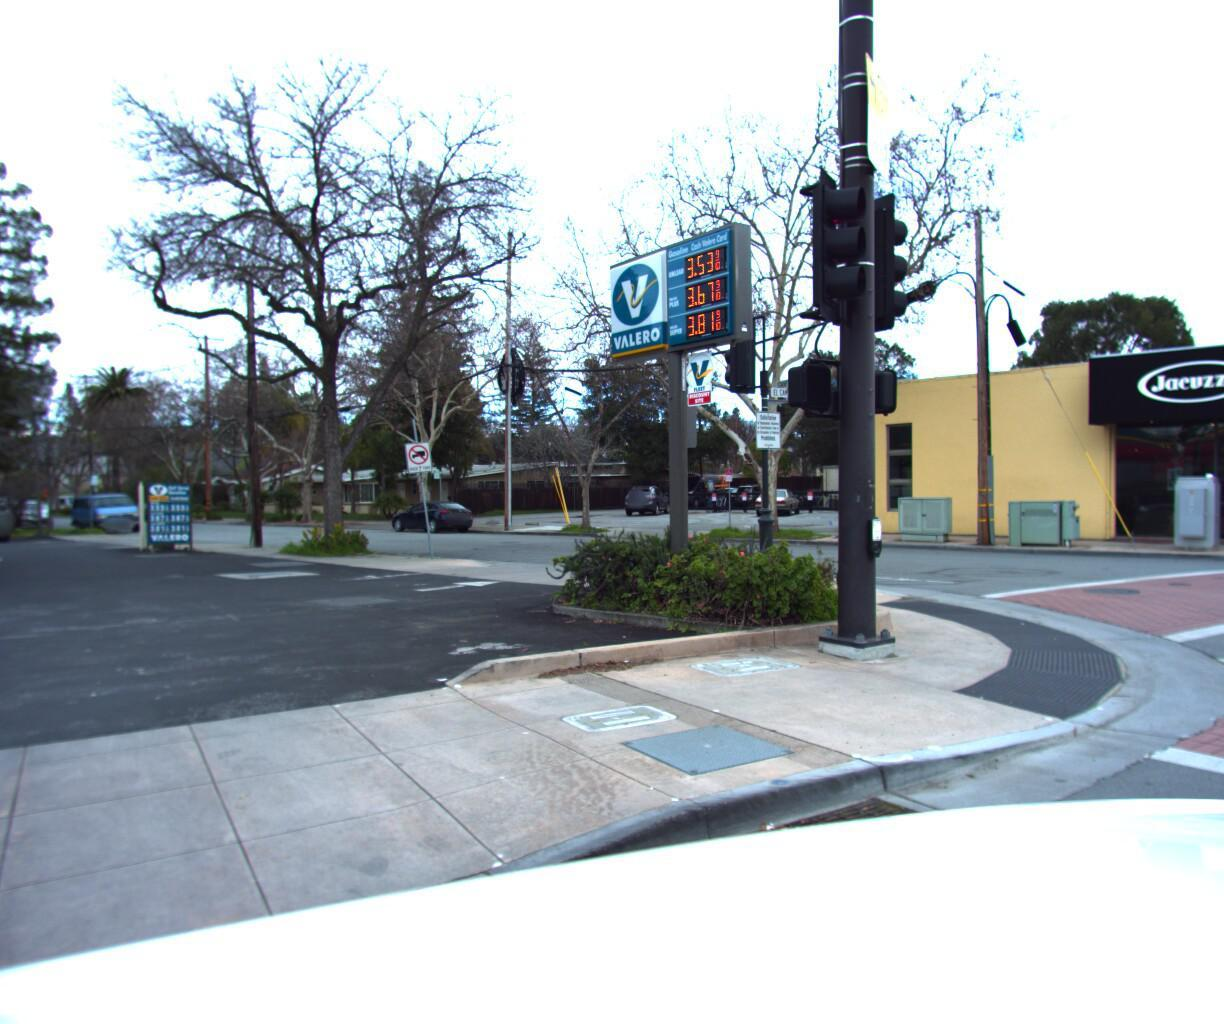car: (69, 495, 147, 542), (391, 502, 479, 539)
